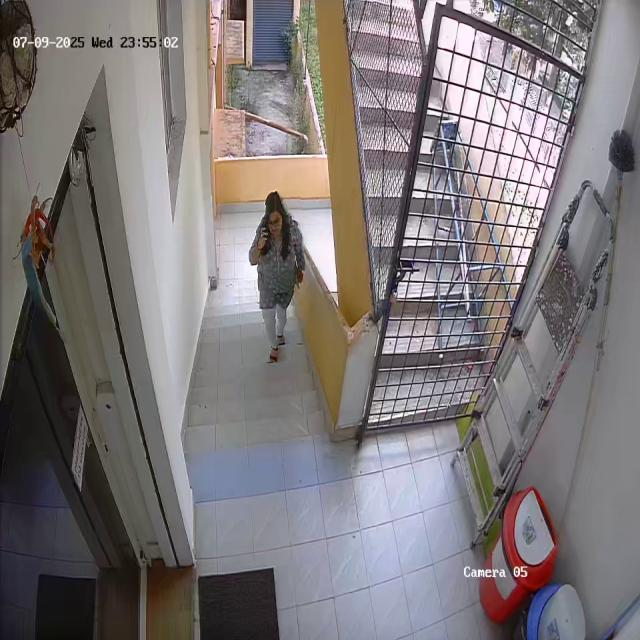person: (248, 190, 305, 362)
